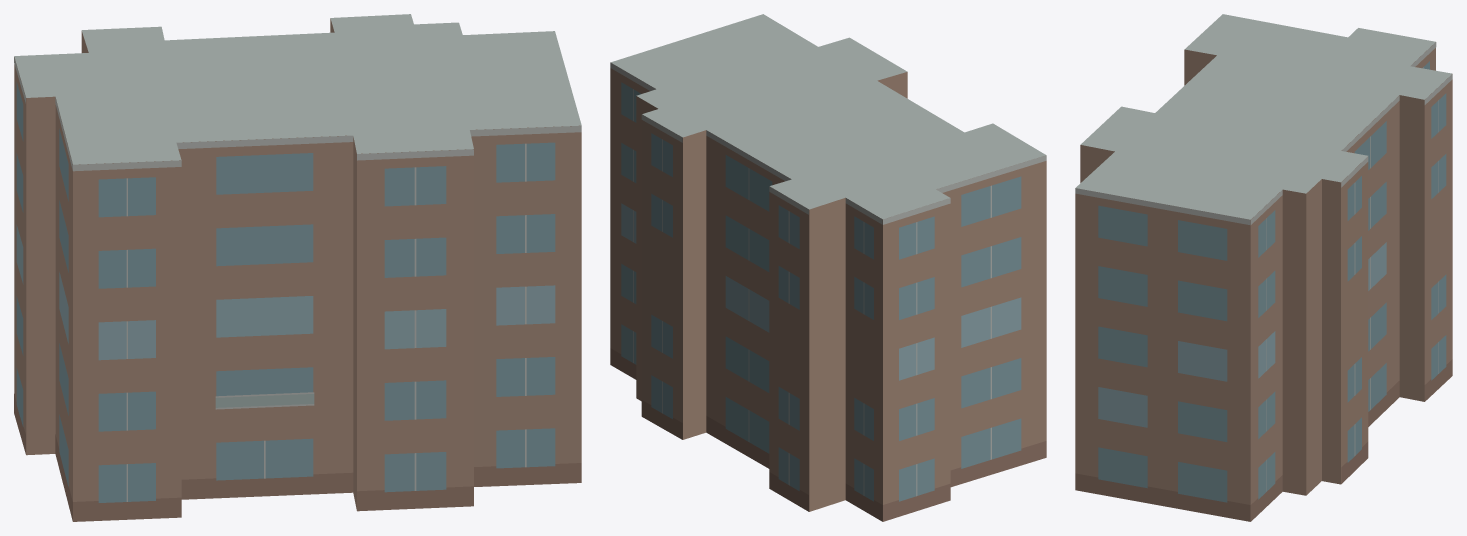
The model's file is survey-upis-32530864.glb.
3 views of the same model, side by side, from view 1: azimuth 30°, elevation 25°; view 2: azimuth 150°, elevation 25°; view 3: azimuth 270°, elevation 25° (orthographic). The views are drawn at different scales.
Visible parts, largest first — view 1: survey-upis-32530864.tmp; view 2: survey-upis-32530864.tmp; view 3: survey-upis-32530864.tmp.
Part boxes in pixels (<box>): survey-upis-32530864.tmp: <box>14,14,581,521</box>; survey-upis-32530864.tmp: <box>610,14,1046,521</box>; survey-upis-32530864.tmp: <box>1075,14,1452,521</box>.
Bounding box in the file's own units: 19.43 × 13.3 × 15.06.
